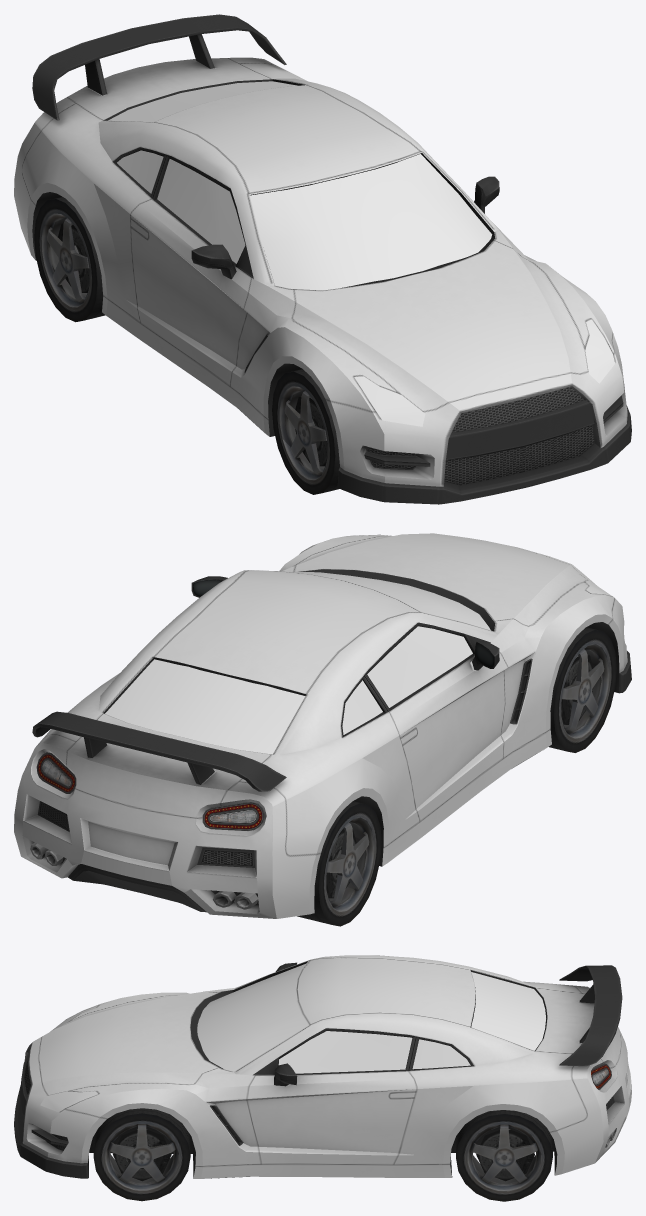
The picture shows the model from 3 angles, top to bottom: view 1: azimuth 30°, elevation 25°; view 2: azimuth 150°, elevation 25°; view 3: azimuth 270°, elevation 25°; orthographic projection. The views are drawn at different scales.
Parts seen in each view (by area): view 1: Body_8, Matte_8, Glass_8, Wheel_Back_R.007, Wheel_R.007, Glass_light.006; view 2: Body_8, Glass_8, Matte_8, Wheel_Back_R.007, Wheel_R.007, Taillights_8; view 3: Body_8, Glass_8, Matte_8, Wheel_L.007, Wheel_Back_L.007, Glass_light.006, Taillights_8.
Boxes of the visible parts, <box> form: Body_8: <box>14,57,627,486</box>; Matte_8: <box>32,14,631,504</box>; Glass_8: <box>108,81,492,290</box>; Wheel_Back_R.007: <box>34,197,105,322</box>; Wheel_R.007: <box>272,369,339,494</box>; Glass_light.006: <box>354,319,615,426</box>; Body_8: <box>14,533,627,918</box>; Glass_8: <box>105,572,490,754</box>; Matte_8: <box>30,569,631,912</box>; Wheel_Back_R.007: <box>297,801,381,926</box>; Wheel_R.007: <box>549,627,616,752</box>; Taillights_8: <box>36,752,264,830</box>; Body_8: <box>22,955,631,1178</box>; Glass_8: <box>197,964,545,1073</box>; Matte_8: <box>14,961,622,1181</box>; Wheel_L.007: <box>93,1108,190,1201</box>; Wheel_Back_L.007: <box>456,1110,552,1201</box>; Glass_light.006: <box>40,1005,97,1112</box>; Taillights_8: <box>591,1063,611,1089</box>.
Bounding box in the file's own units: 201 × 137 × 462.
